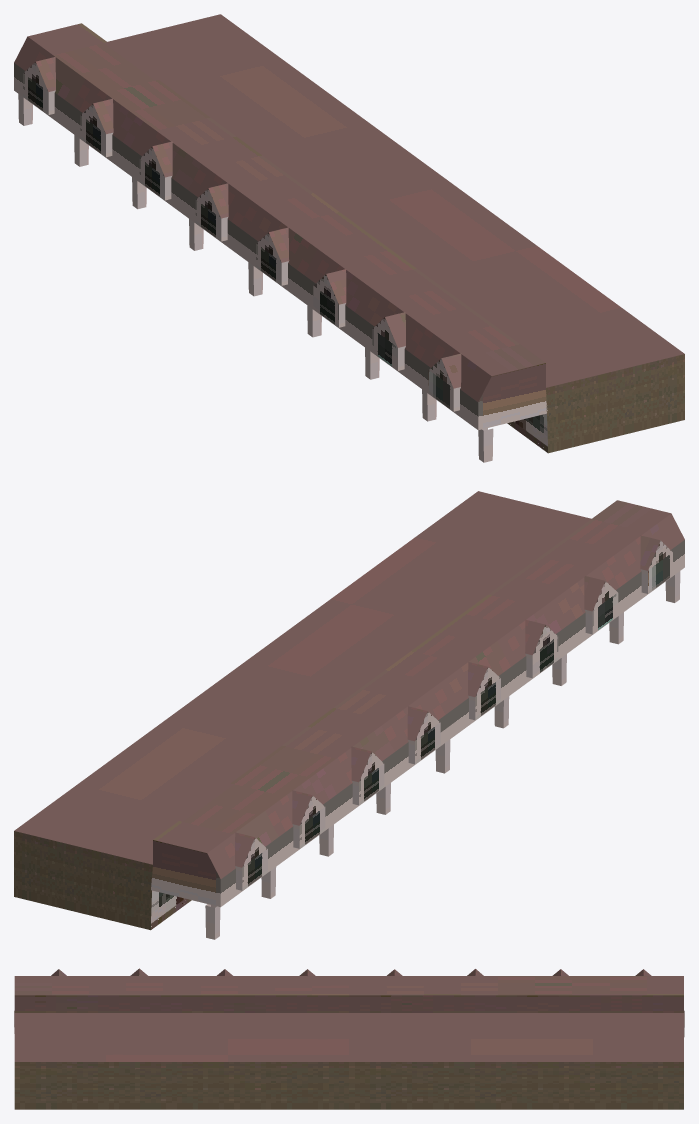
File: lodp16_lvs.obj
3 renders of one model, top to bottom at view 1: azimuth 30°, elevation 25°; view 2: azimuth 150°, elevation 25°; view 3: azimuth 270°, elevation 25°, orthographic. The views are drawn at different scales.
Parts seen in each view (by area): view 1: lodp16_lvs; view 2: lodp16_lvs; view 3: lodp16_lvs.
Part boxes in pixels (x1,y1,x2,y2): lodp16_lvs: [14, 14, 684, 462]; lodp16_lvs: [14, 491, 684, 939]; lodp16_lvs: [14, 968, 684, 1109].
Bounding box in the file's own units: 21.17 × 8.68 × 79.9.
Materials: 1 (1 with a texture image).
